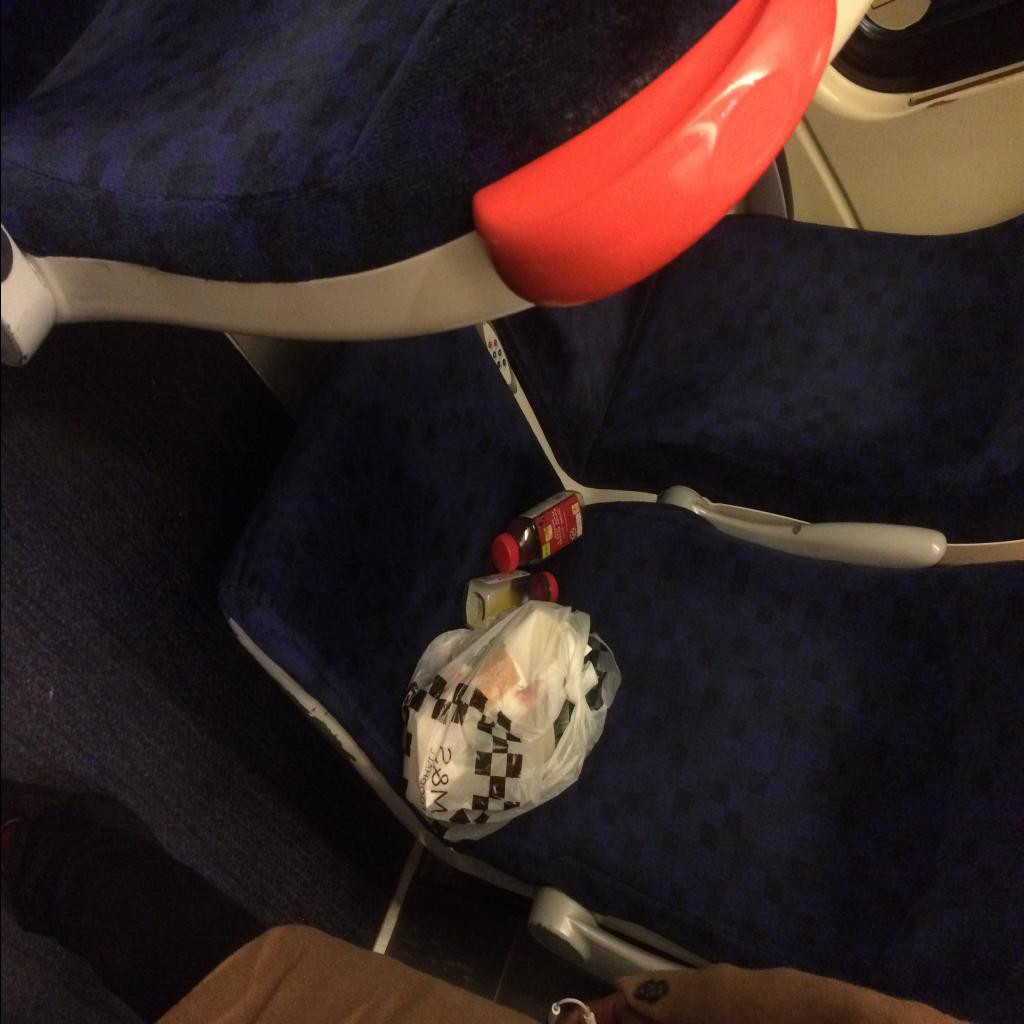Clear plastic bottle: (490, 490, 584, 575), (461, 568, 557, 630)
Plastic bottle cap: (490, 534, 516, 574)
Single-use carrier bag: (400, 600, 620, 841)
